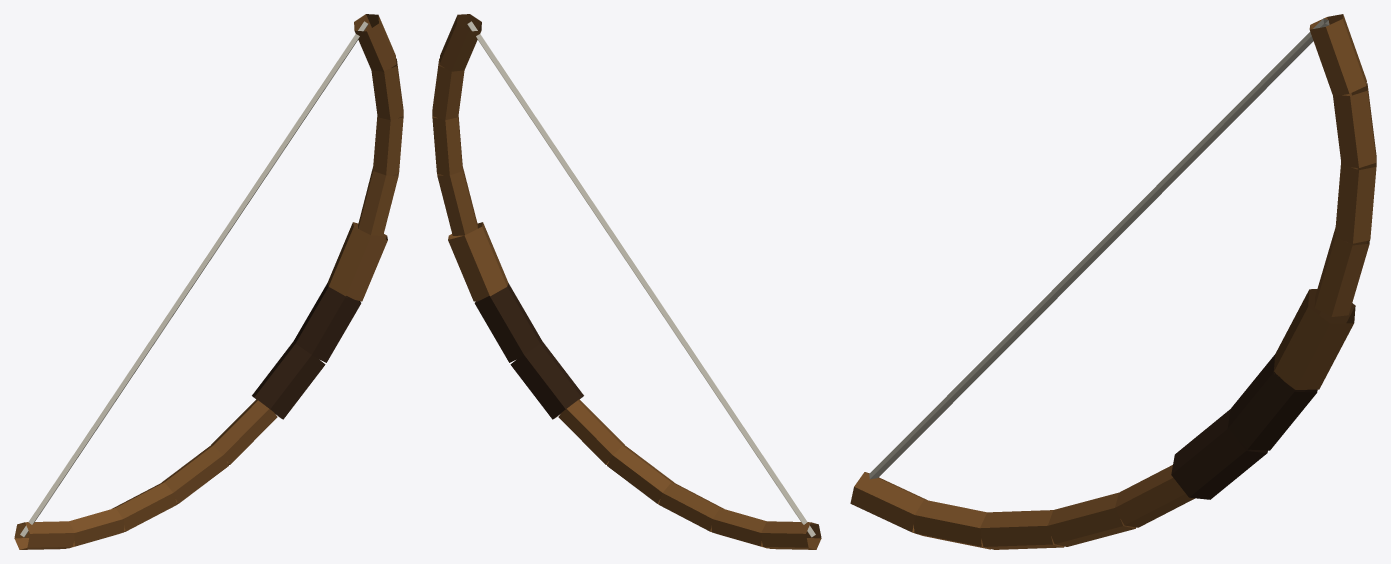
The model's file is i_bow.glb.
The picture shows the model from 3 angles, left to right: view 1: azimuth 30°, elevation 25°; view 2: azimuth 150°, elevation 25°; view 3: azimuth 330°, elevation 25°; orthographic projection. The views are drawn at different scales.
Visible parts, largest first — view 1: i_bow; view 2: i_bow; view 3: i_bow.
Part boxes in pixels (box(x1,y1,x2,y2)): i_bow: box(14, 14, 403, 549); i_bow: box(432, 14, 821, 549); i_bow: box(850, 14, 1376, 549).
Size of the model in its own units: 1.04 by 1.18 by 0.0866.
